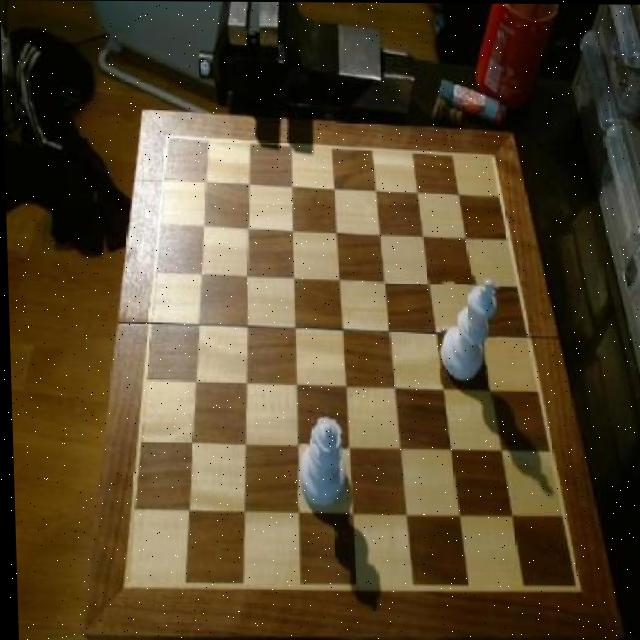white-bishop: (436, 273, 497, 387)
white-pawn: (294, 412, 346, 510)
